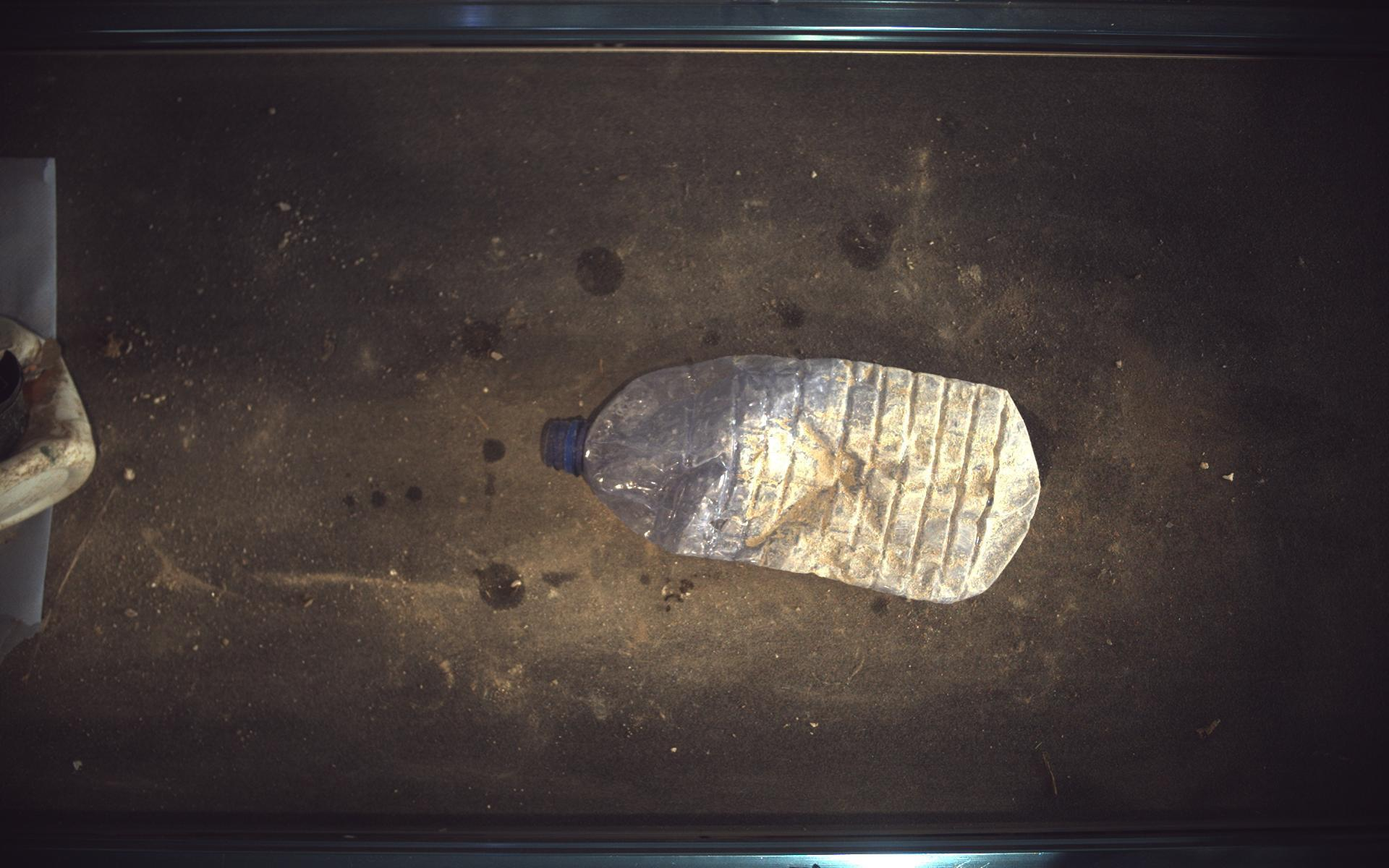general_w: (541, 356, 1042, 604), (1, 316, 95, 532)
pipes: (1, 350, 27, 460)
